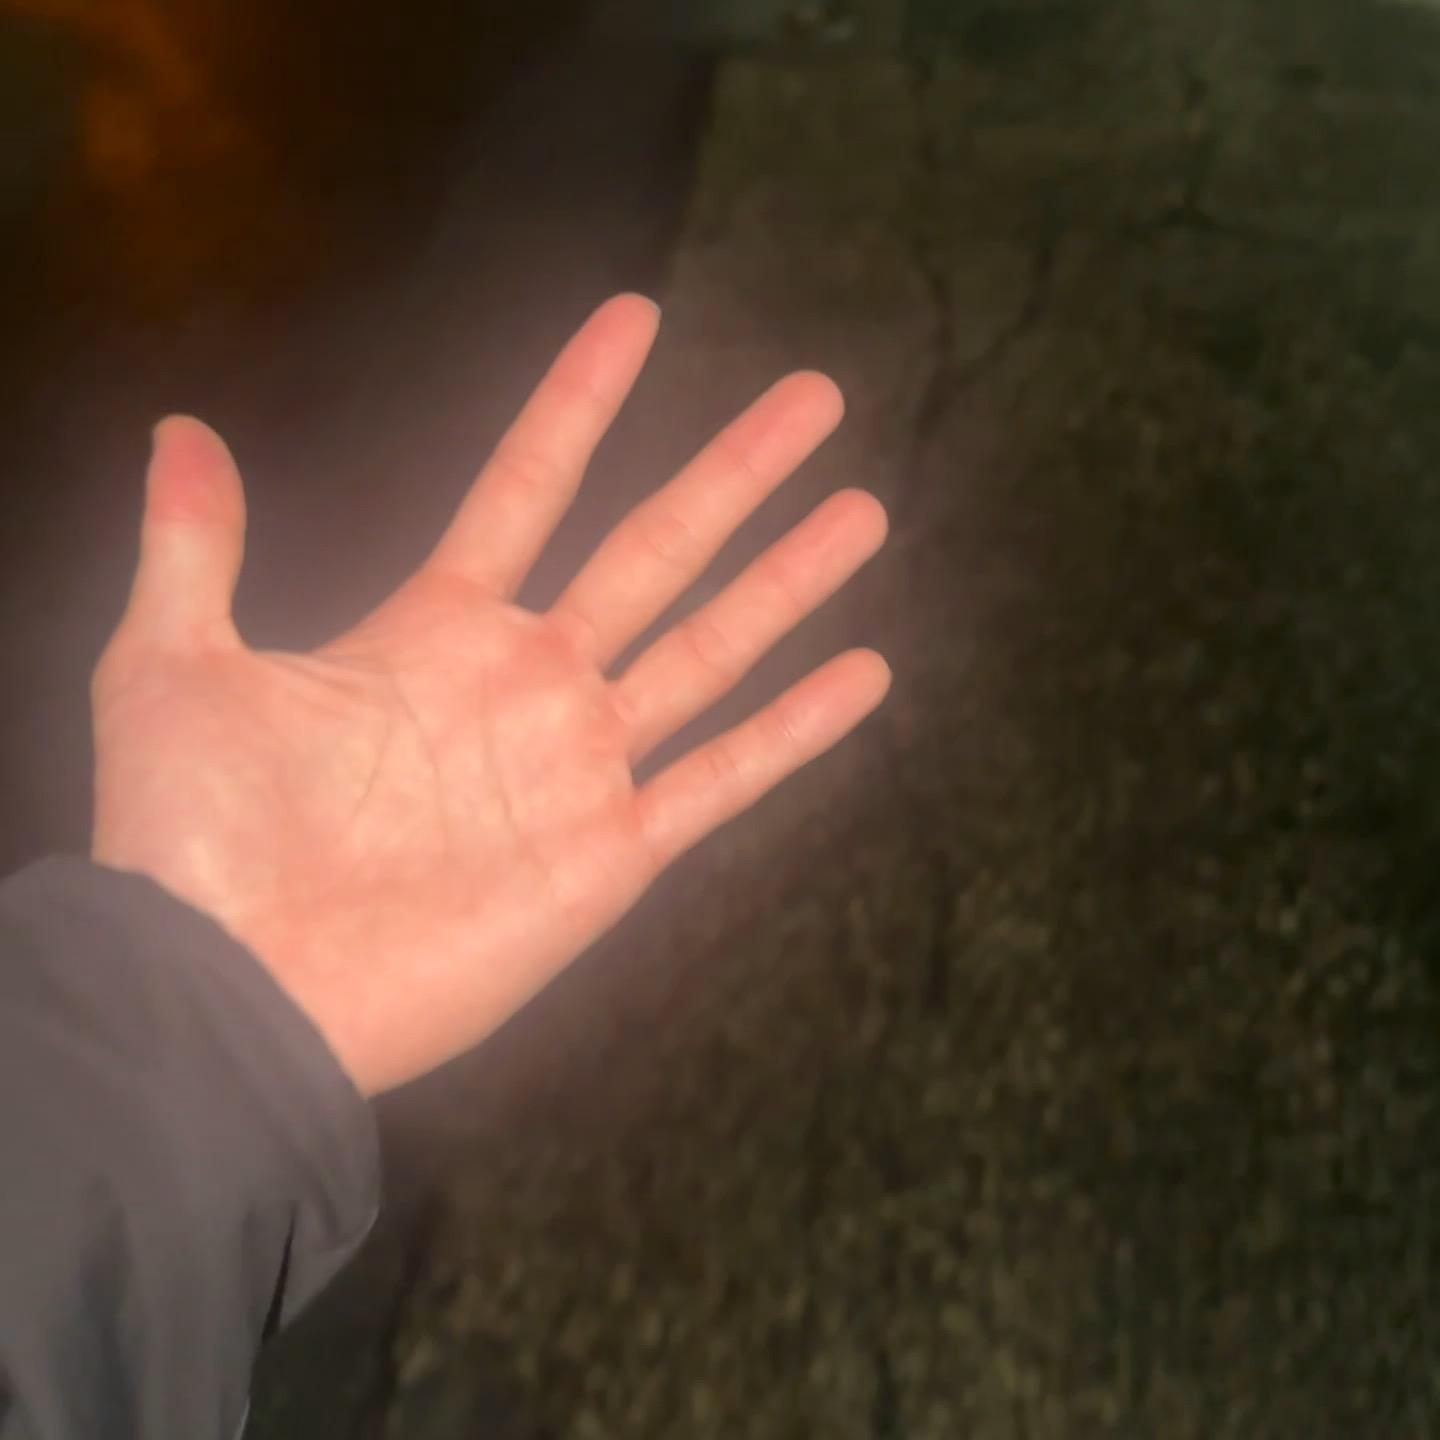without_gloves: (98, 277, 916, 1095)
